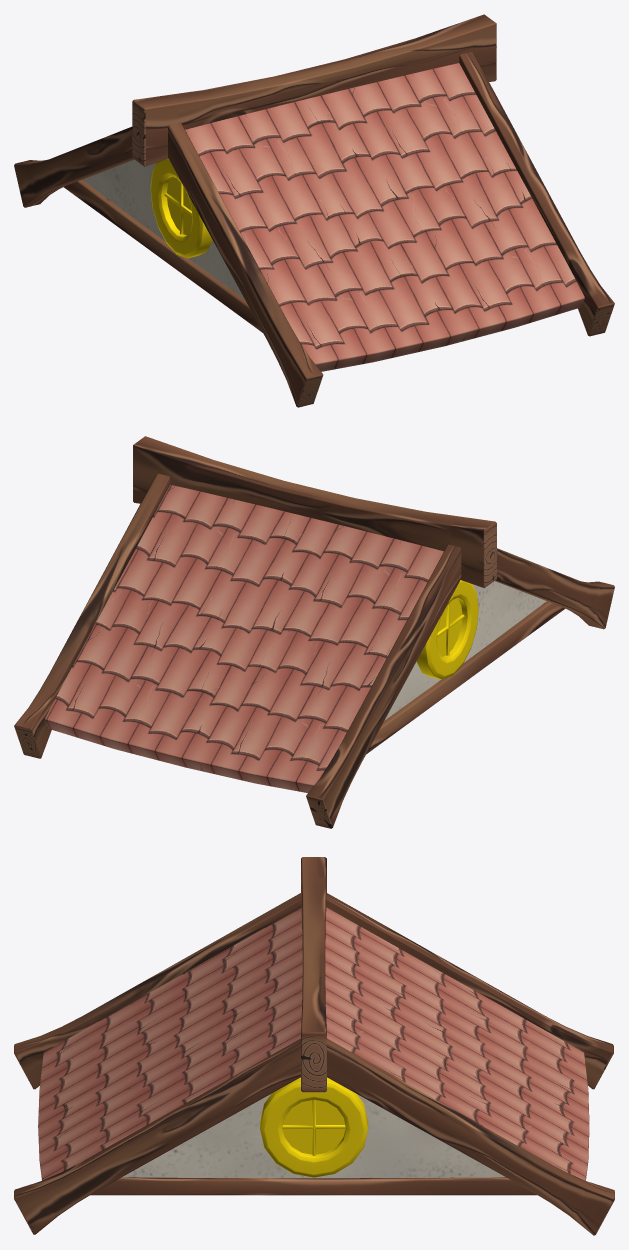
The model's file is house_roof2.FBX.
The picture shows the model from 3 angles, top to bottom: view 1: azimuth 30°, elevation 25°; view 2: azimuth 150°, elevation 25°; view 3: azimuth 270°, elevation 25°; orthographic projection. The views are drawn at different scales.
Parts seen in each view (by area): view 1: roof002; view 2: roof002; view 3: roof002.
Part boxes in pixels (left/top/right/bottom): roof002: left=14, top=14, right=614, bottom=407; roof002: left=14, top=436, right=614, bottom=828; roof002: left=14, top=857, right=614, bottom=1235.
Bounding box in the file's own units: 531 × 302 × 765.
